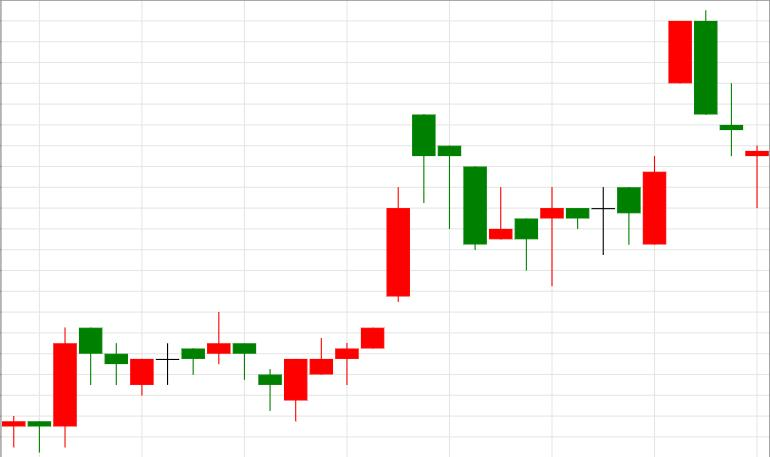bearish_engulfing_fall: (539, 10, 718, 286)
hanging_man_fall: (284, 114, 435, 421)
